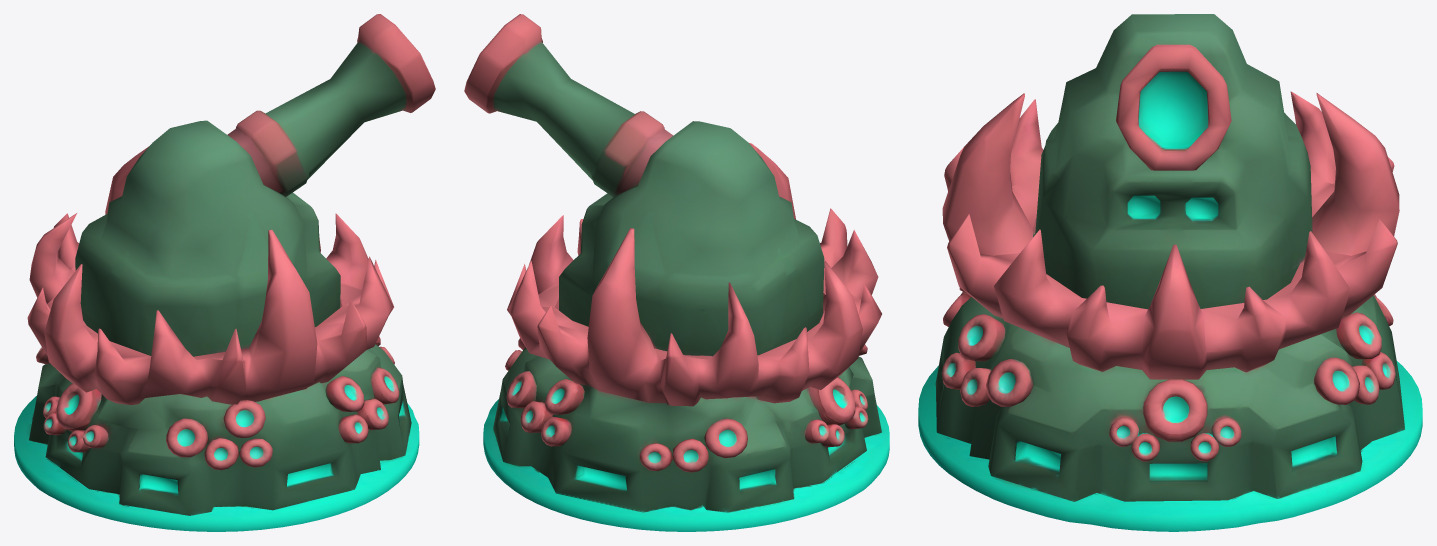
The model's file is water_coral_turret.glb.
3 views of the same model, side by side, from view 1: azimuth 30°, elevation 25°; view 2: azimuth 150°, elevation 25°; view 3: azimuth 270°, elevation 25° (orthographic). The views are drawn at different scales.
Visible parts, largest first — view 1: tripo_node_e09dbb20-e3a0-4400-b56e-9fcbdd45ab2c; view 2: tripo_node_e09dbb20-e3a0-4400-b56e-9fcbdd45ab2c; view 3: tripo_node_e09dbb20-e3a0-4400-b56e-9fcbdd45ab2c.
Part boxes in pixels (bbox=[...]): tripo_node_e09dbb20-e3a0-4400-b56e-9fcbdd45ab2c: bbox=[14, 14, 435, 531]; tripo_node_e09dbb20-e3a0-4400-b56e-9fcbdd45ab2c: bbox=[464, 14, 889, 531]; tripo_node_e09dbb20-e3a0-4400-b56e-9fcbdd45ab2c: bbox=[918, 14, 1422, 531].
Bounding box in the file's own units: 0.9995 × 0.9536 × 0.9038.
Materials: 1 (1 with a texture image).
